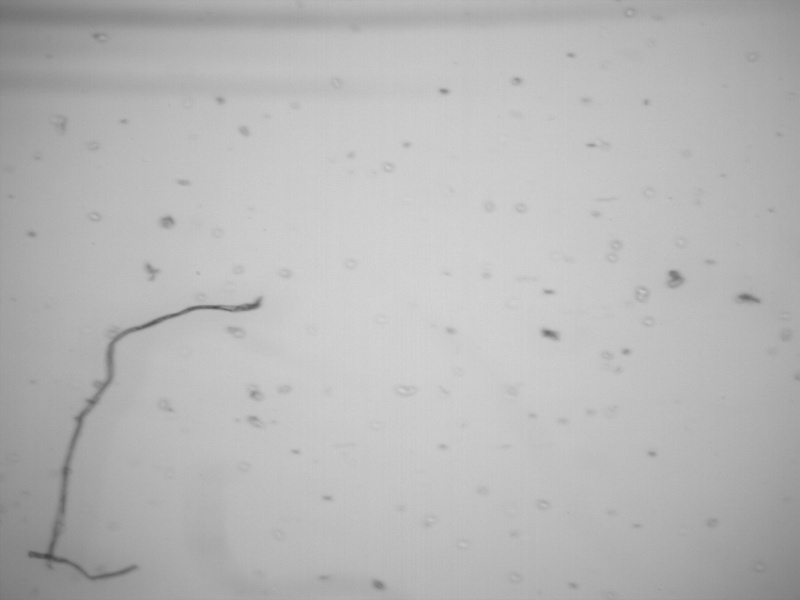fiber: (45, 293, 264, 571), (26, 547, 143, 583)
